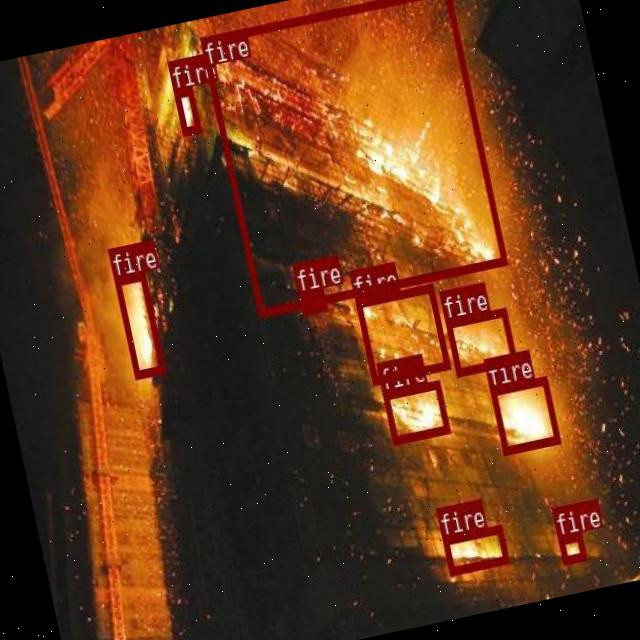fire: (198, 0, 506, 316), (354, 284, 448, 384), (488, 374, 560, 454), (112, 271, 164, 378), (444, 307, 516, 374), (381, 378, 449, 443), (441, 523, 508, 574), (172, 86, 200, 135), (557, 532, 585, 562), (298, 286, 326, 314)
